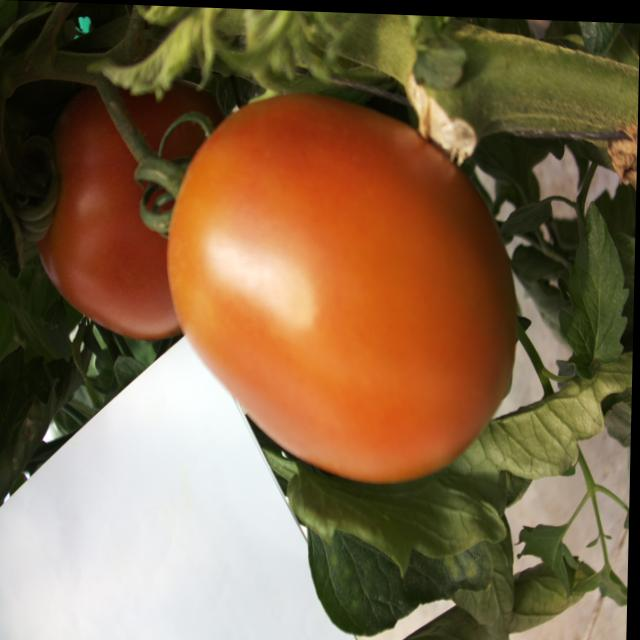kirmizi: (129, 59, 544, 504)
